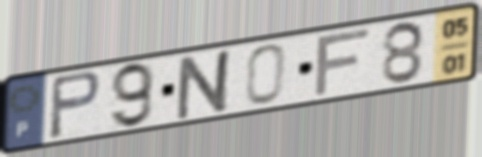0: (242, 41, 293, 108)
8: (379, 19, 428, 88)
9: (108, 62, 156, 131)
F: (311, 25, 375, 100)
N: (173, 45, 238, 123)
P: (46, 69, 104, 142)
